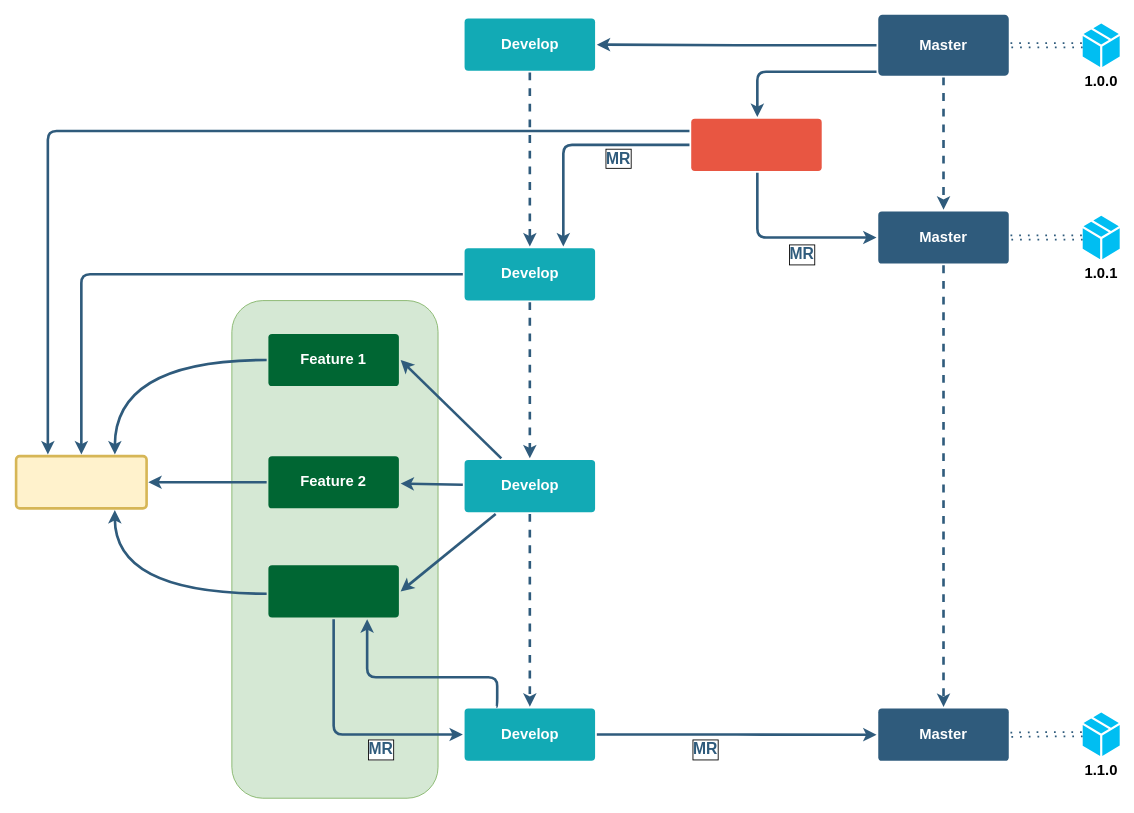
This 1134x813 diagram has some shape labels left out. Here are the shapes that lost their labels. From the top down, the box of each, then its label:
(691, 118, 821, 171): Hotfix
(14, 454, 147, 509): Homolog
(268, 565, 398, 617): Feature n
